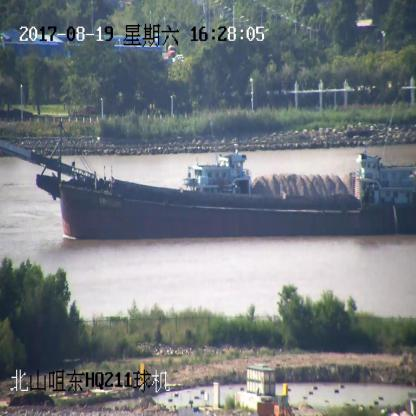Bulk Carrier: (0, 122, 416, 238)
